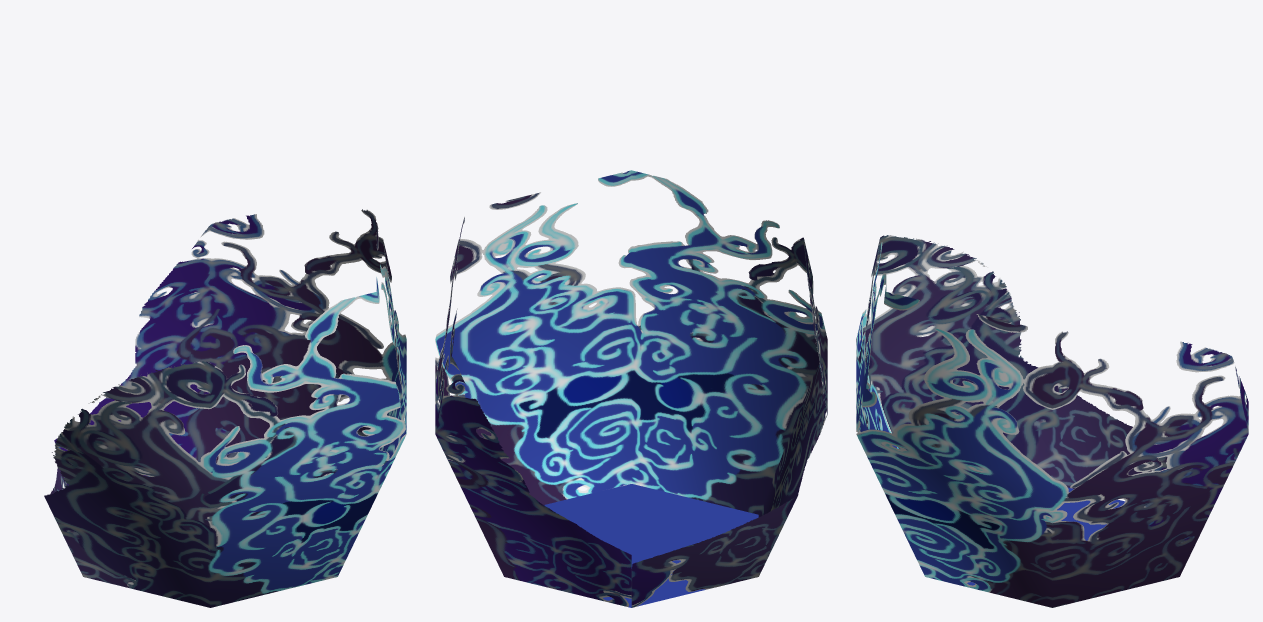
File: Tsurubebi.fbx
The picture shows the model from 3 angles, left to right: view 1: azimuth 30°, elevation 25°; view 2: azimuth 150°, elevation 25°; view 3: azimuth 270°, elevation 25°; orthographic projection.
Visible parts, largest first — view 1: Tsurubebi; view 2: Tsurubebi; view 3: Tsurubebi.
Boxes of the visible parts, x1,y1,x2,y2 form: Tsurubebi: (44,209,406,607); Tsurubebi: (435,170,827,607); Tsurubebi: (856,235,1248,607).
Bounding box in the file's own units: 71.5 × 81.85 × 61.92.
